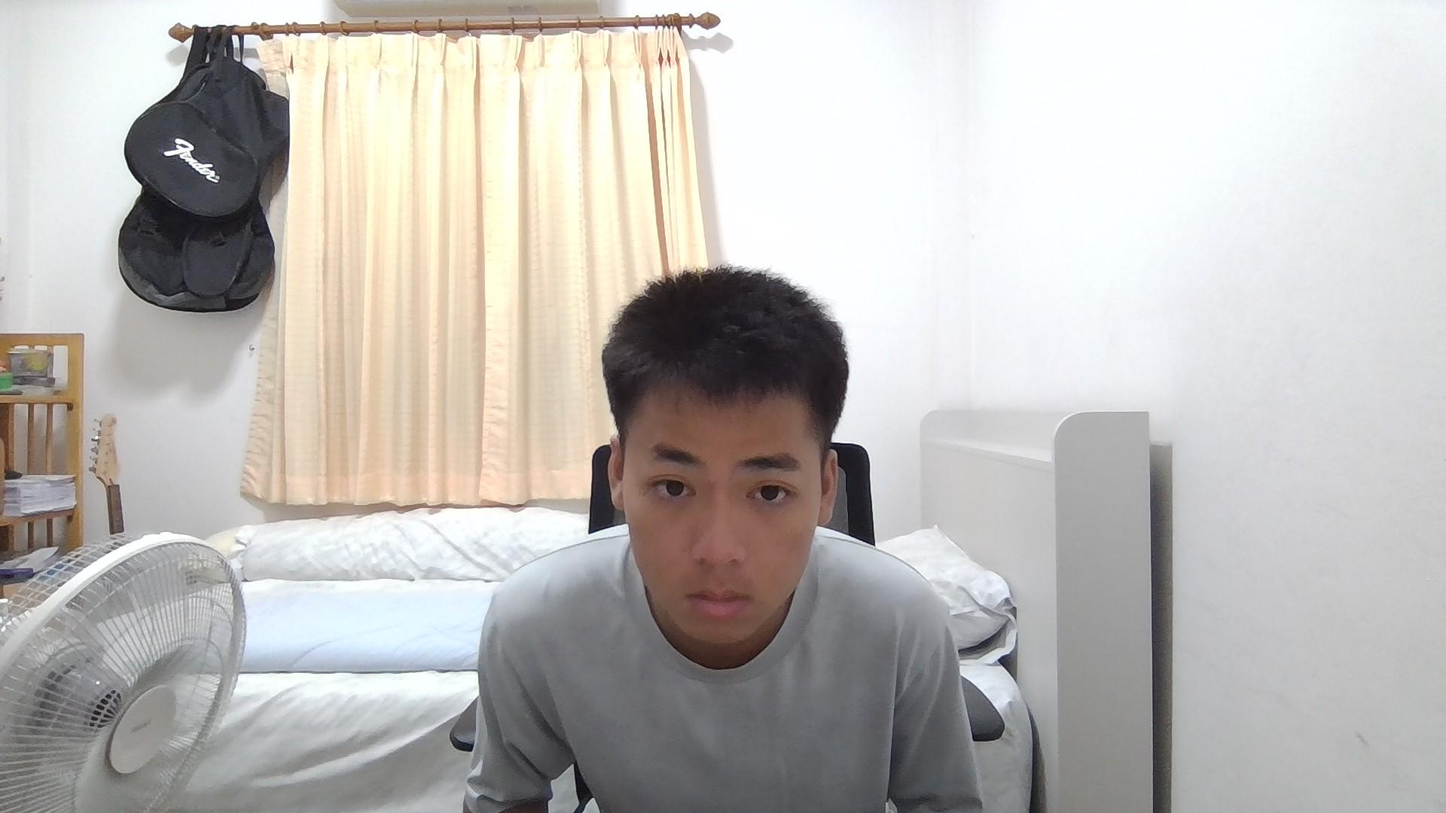BadPosture: (463, 266, 988, 812)
